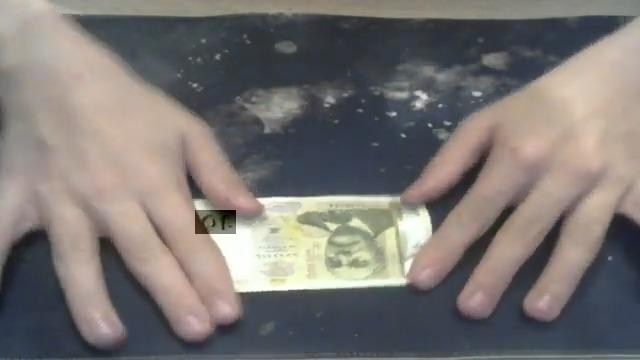10leva: (195, 211, 236, 234)
